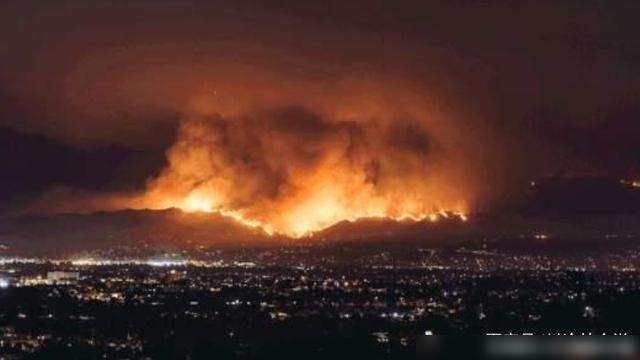fire: (164, 194, 468, 241)
